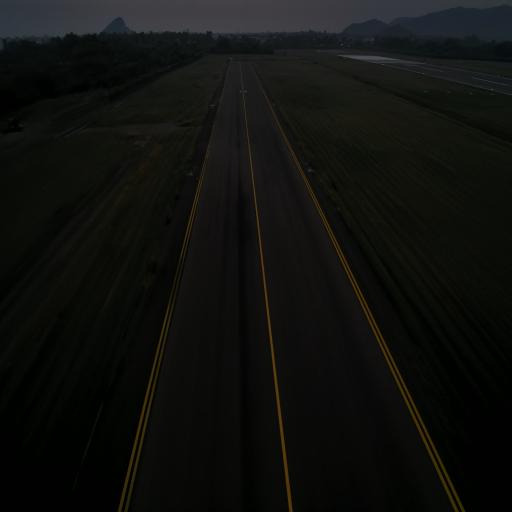on: (188, 168, 192, 175), (308, 164, 312, 170)
